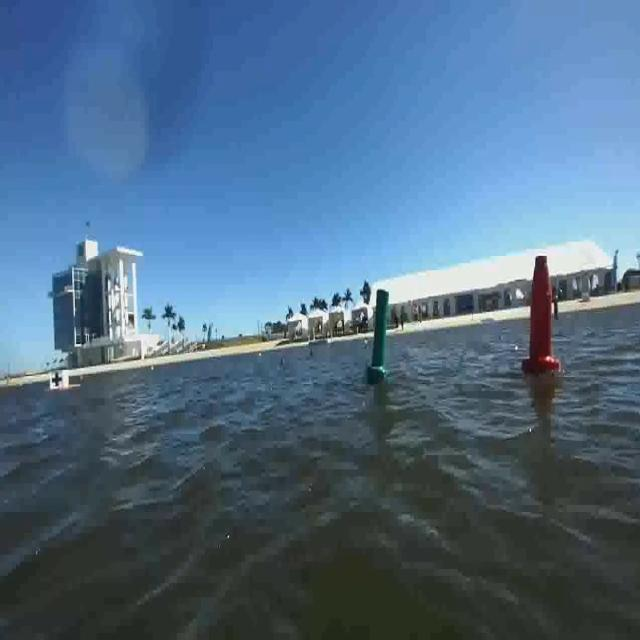green-column-buoy: (366, 285, 392, 383)
red-column-buoy: (521, 252, 559, 378)
